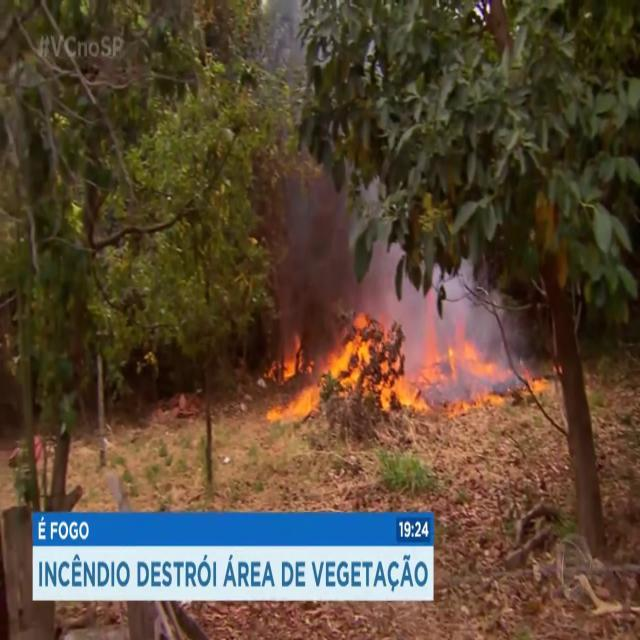Fire: (261, 306, 511, 420)
